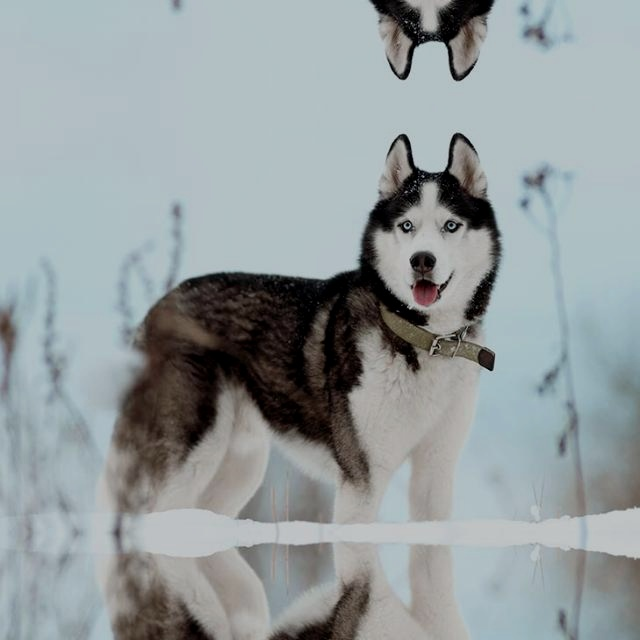dog: (139, 149, 515, 510), (139, 555, 515, 640), (139, 0, 515, 63)
